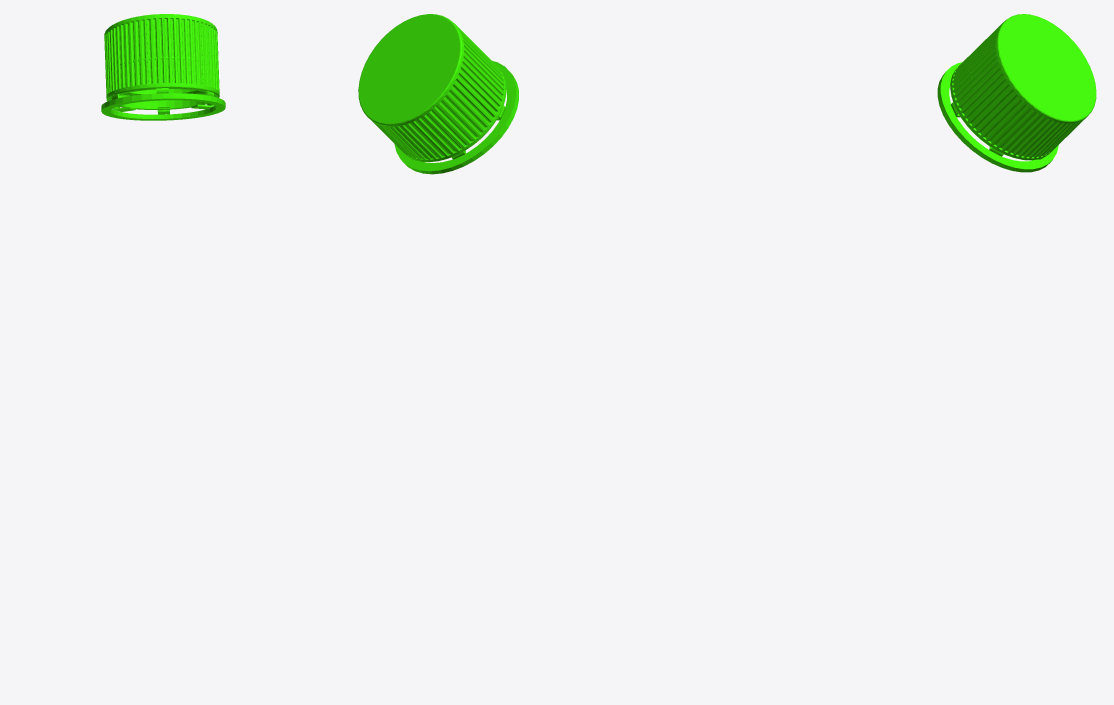
The model's file is bend_high_1.obj.
3 renders of one model, left to right at view 1: azimuth 30°, elevation 25°; view 2: azimuth 150°, elevation 25°; view 3: azimuth 270°, elevation 25°, orthographic. The views are drawn at different scales.
Parts seen in each view (by area): view 1: model; view 2: model; view 3: model.
Boxes of the visible parts, left/top/right/bottom form: model: left=101, top=14, right=225, bottom=120; model: left=358, top=14, right=518, bottom=174; model: left=937, top=14, right=1096, bottom=172.
Size of the model in its own units: 0.1263 by 0.269 by 0.1293.
1 material, 1 textured.
